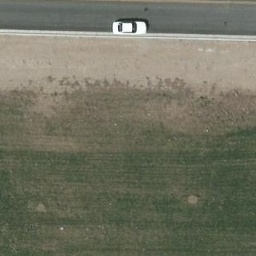car: (113, 18, 149, 37)
